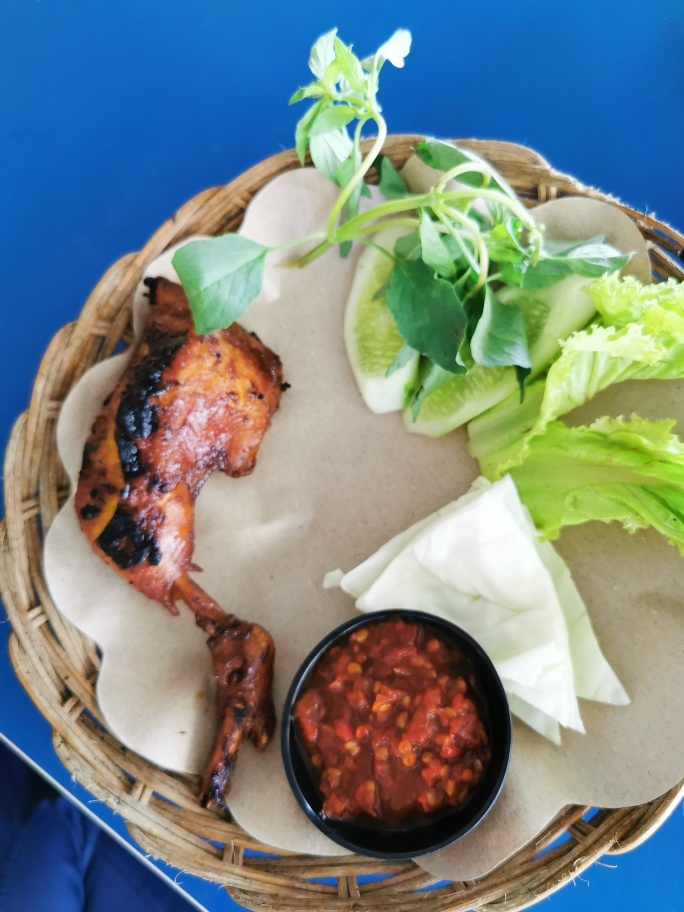ayam bakar: (83, 264, 285, 794)
